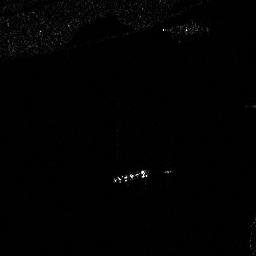ship: (114, 169, 149, 184)
